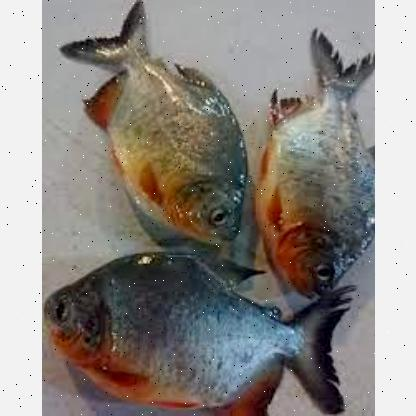ikan-pacu: (41, 258, 347, 412), (74, 3, 247, 246), (254, 51, 374, 297)
